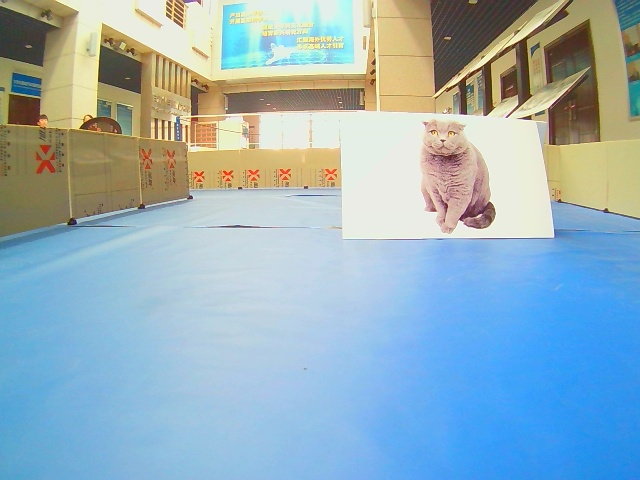pet: (331, 113, 555, 240)
